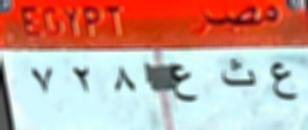2: (70, 63, 94, 95)
7: (28, 62, 55, 95)
8: (113, 63, 135, 95)
ain: (267, 51, 298, 108), (165, 62, 201, 103)
thaa: (222, 53, 256, 94)
